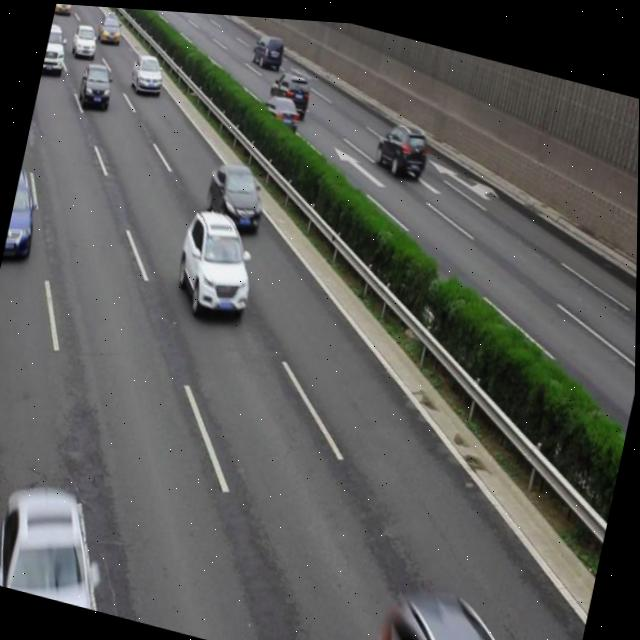car: (0, 475, 119, 611), (169, 198, 265, 325), (377, 578, 569, 640), (202, 151, 271, 237), (2, 168, 45, 271), (371, 110, 432, 178), (75, 55, 118, 116), (256, 85, 303, 137), (266, 62, 313, 113), (127, 47, 168, 98), (42, 21, 71, 79)
